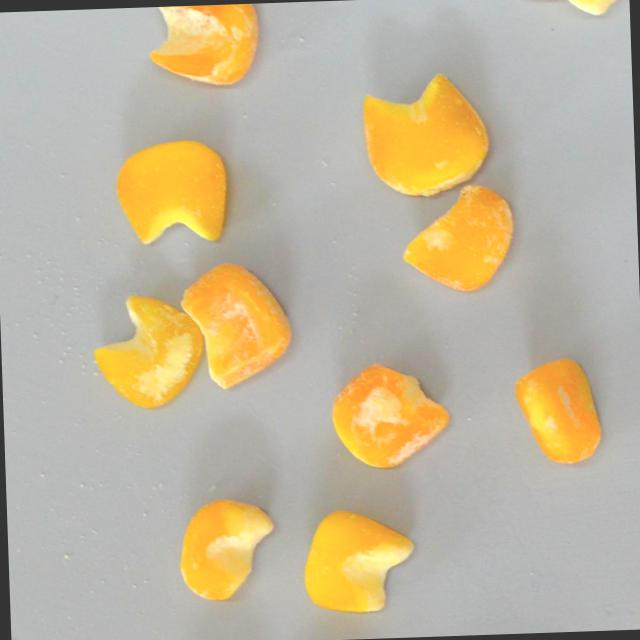no_canjicado: (300, 504, 416, 613)
pelicula: (361, 69, 493, 197), (176, 259, 295, 390), (91, 289, 205, 408), (328, 360, 452, 468), (398, 181, 516, 294), (112, 136, 229, 249), (176, 495, 276, 602), (143, 2, 260, 89), (513, 355, 602, 463), (517, 0, 626, 17)
